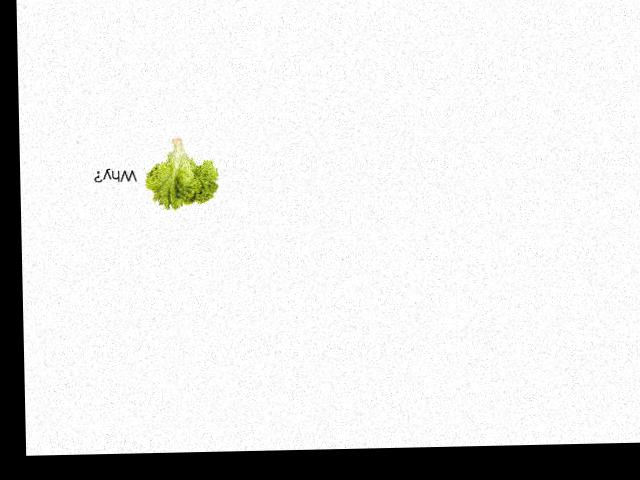lettuce: (137, 136, 221, 211)
